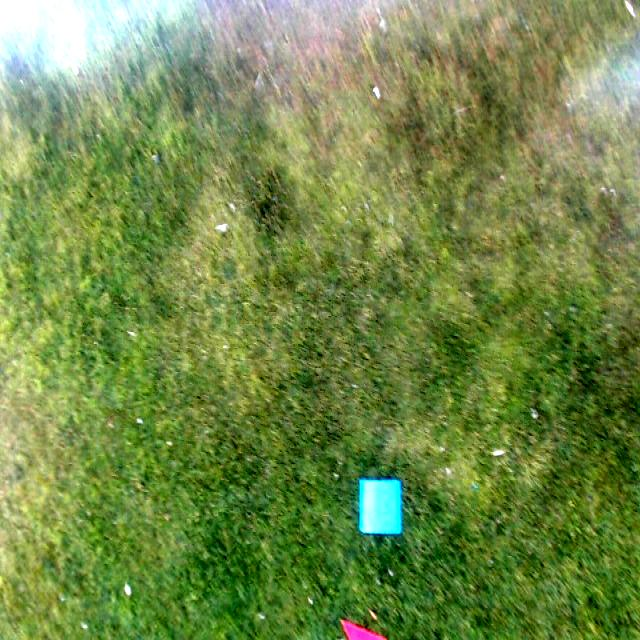blue_square: (360, 479, 401, 534)
